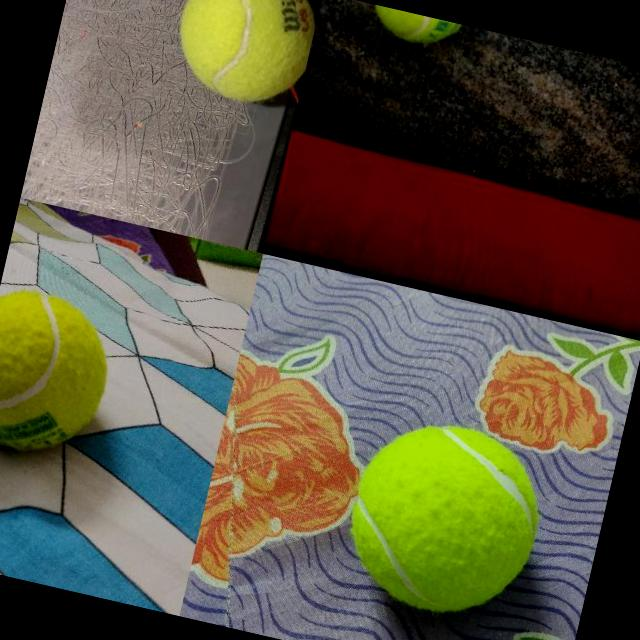tennis-ball: (332, 404, 556, 630), (0, 282, 122, 465), (163, 0, 322, 118), (362, 3, 468, 53)
